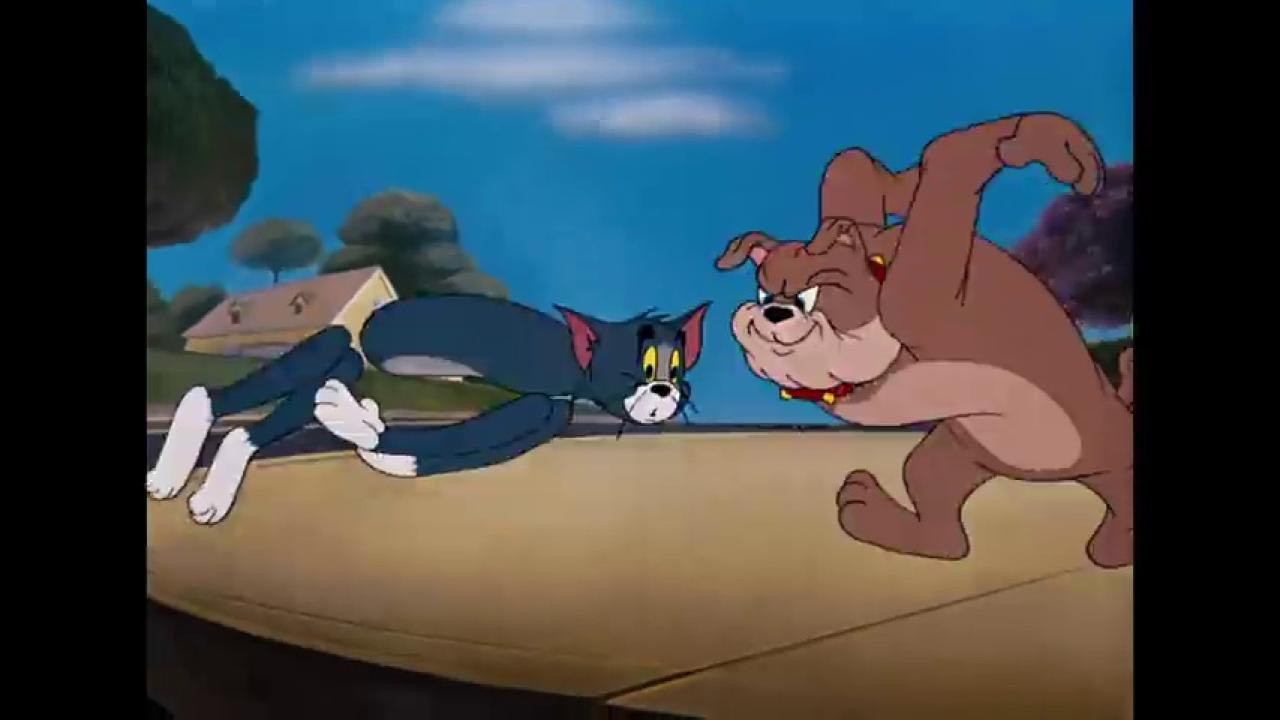Tom: (147, 281, 713, 526)
